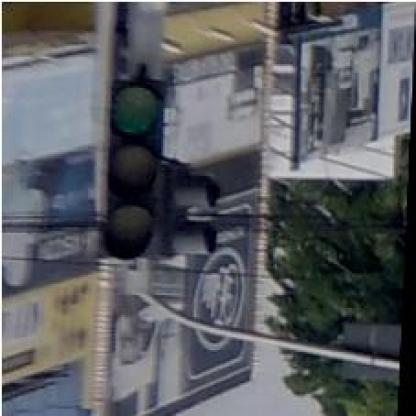green: (105, 85, 163, 260)
